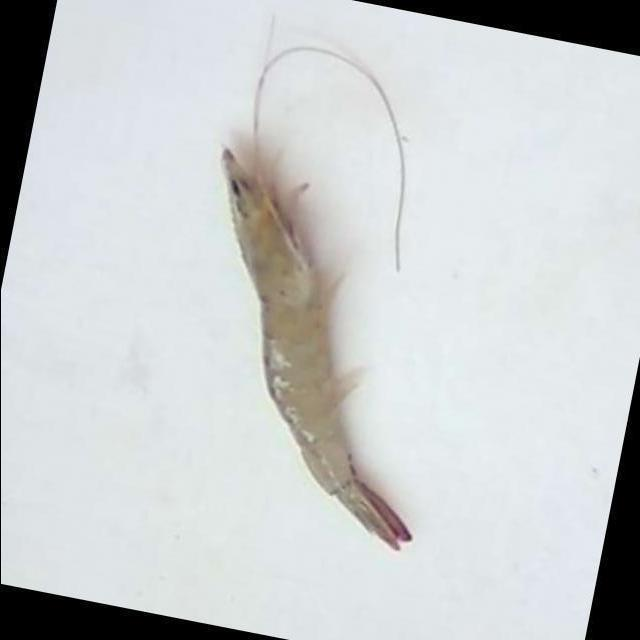shrimp: (219, 146, 410, 550)
